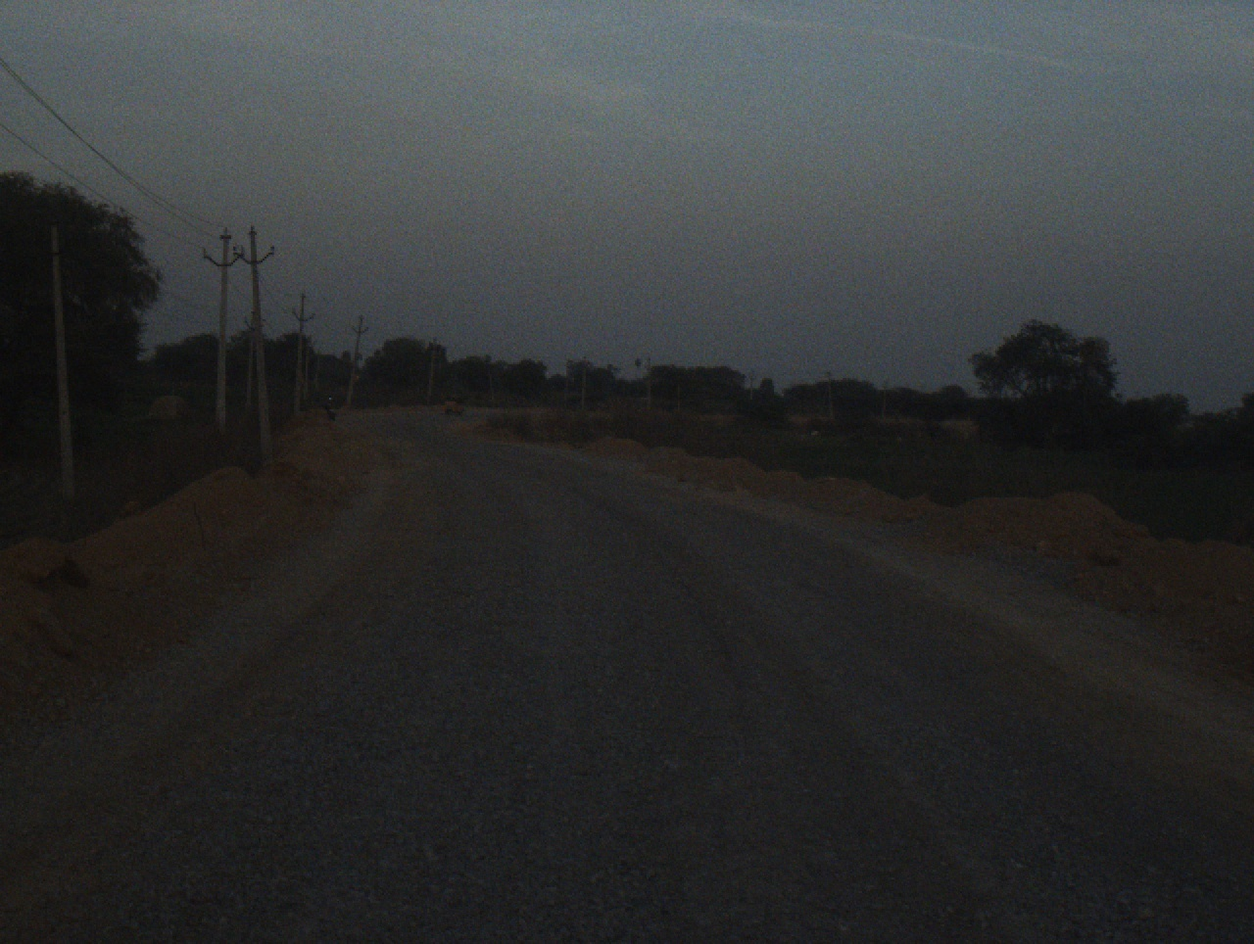autorickshaw: (436, 386, 467, 420)
motorcycle: (323, 388, 340, 424)
